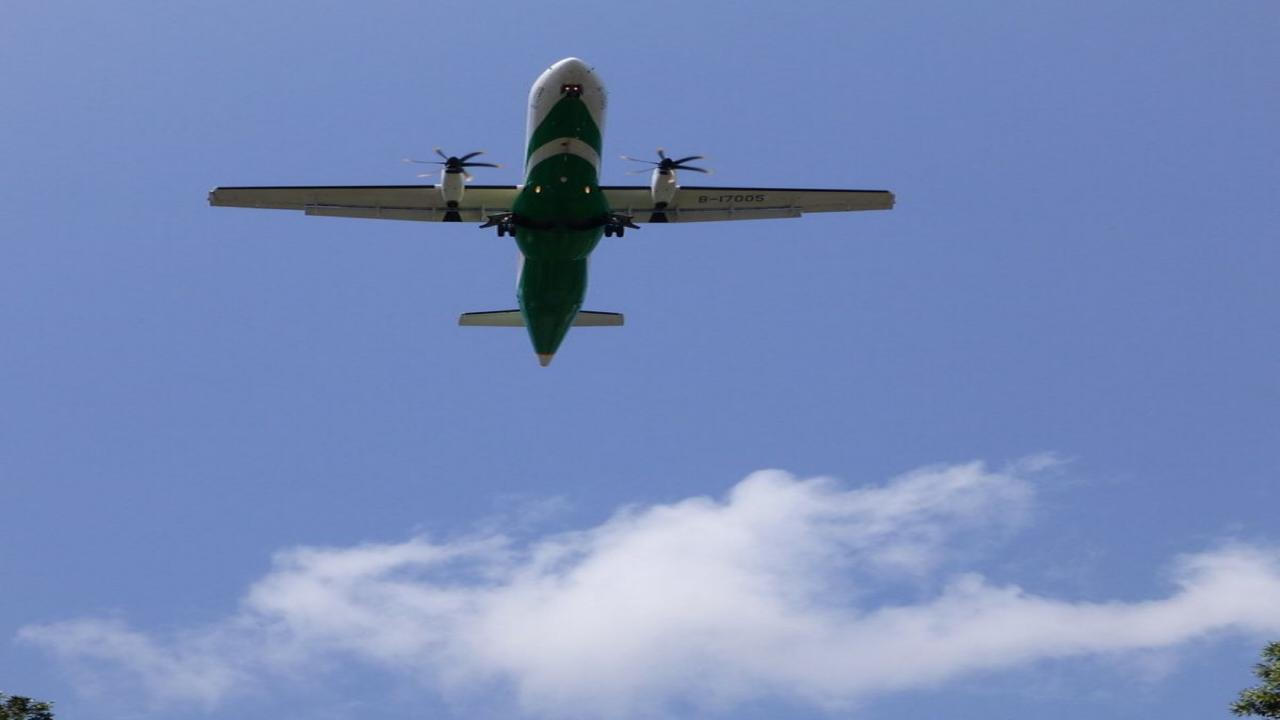Airplane: (197, 47, 913, 374)
